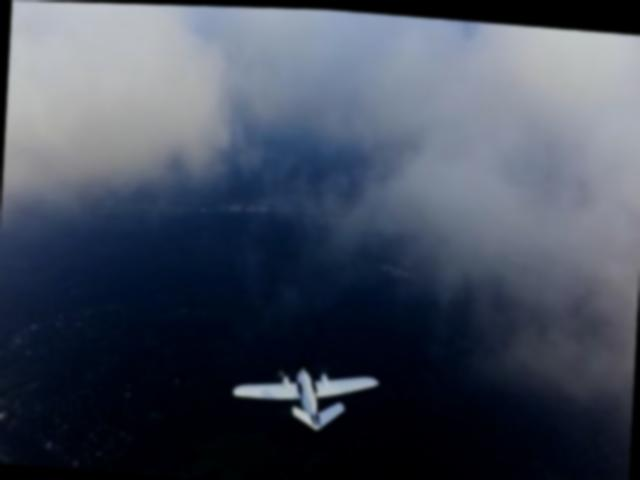uav: (228, 361, 382, 431)
